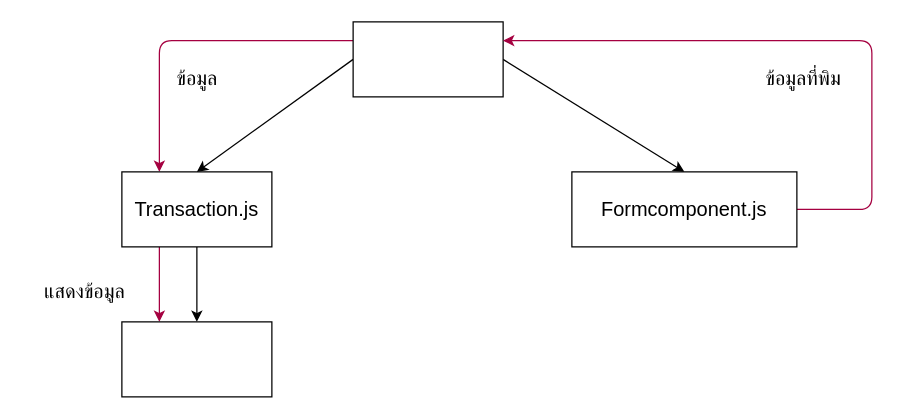
Some shapes in this 904 by 419 pixel diagram are drawn without their labels. Each missing label, with the box of its shape:
App.js: (352, 21, 503, 97)
Item.js: (121, 321, 272, 397)
